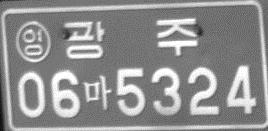0: (16, 70, 47, 119)
2: (187, 65, 219, 115)
3: (150, 66, 182, 116)
4: (225, 65, 256, 115)
5: (114, 67, 146, 117)
6: (50, 69, 80, 119)
광주_D: (62, 18, 198, 59)
마: (82, 74, 112, 110)
영: (14, 20, 51, 63)
